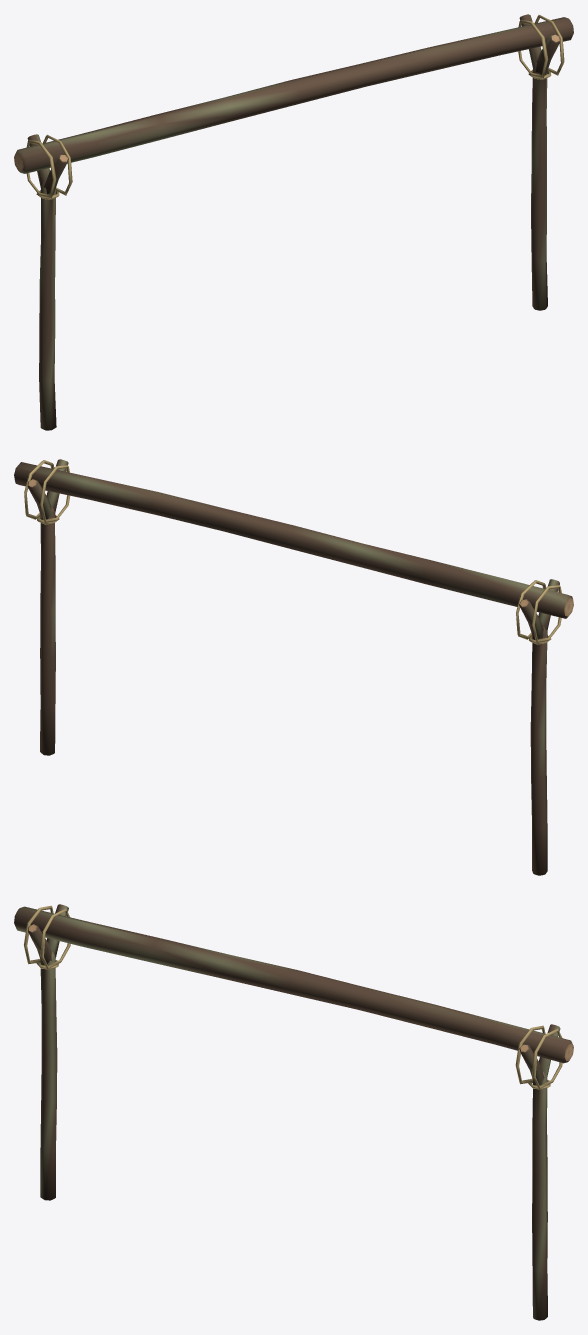
The model's file is railing.glb.
3 renders of one model, top to bottom at view 1: azimuth 30°, elevation 25°; view 2: azimuth 150°, elevation 25°; view 3: azimuth 330°, elevation 25°, orthographic.
Parts seen in each view (by area): view 1: Part_02, Part_00, Part_01, Part_03; view 2: Part_02, Part_00, Part_01, Part_03; view 3: Part_02, Part_00, Part_01, Part_03.
Boxes of the visible parts, x1,y1,x2,y2 form: Part_02: (14, 17, 573, 173); Part_00: (27, 134, 68, 430); Part_01: (519, 14, 560, 310); Part_03: (26, 15, 564, 199); Part_02: (14, 462, 573, 618); Part_00: (519, 579, 559, 875); Part_01: (27, 459, 68, 755); Part_03: (24, 460, 561, 644); Part_02: (14, 906, 573, 1063); Part_00: (28, 904, 68, 1200); Part_01: (519, 1024, 560, 1320); Part_03: (24, 905, 562, 1089).
Bounding box in the file's own units: 2.02 × 1.01 × 0.222.
